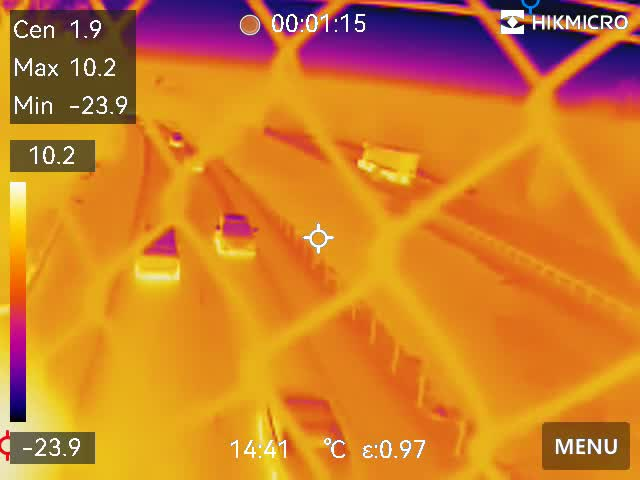heavyTruck: (351, 142, 428, 180)
vehicle: (249, 386, 360, 480), (134, 220, 181, 287), (212, 209, 262, 267), (169, 128, 188, 150)
